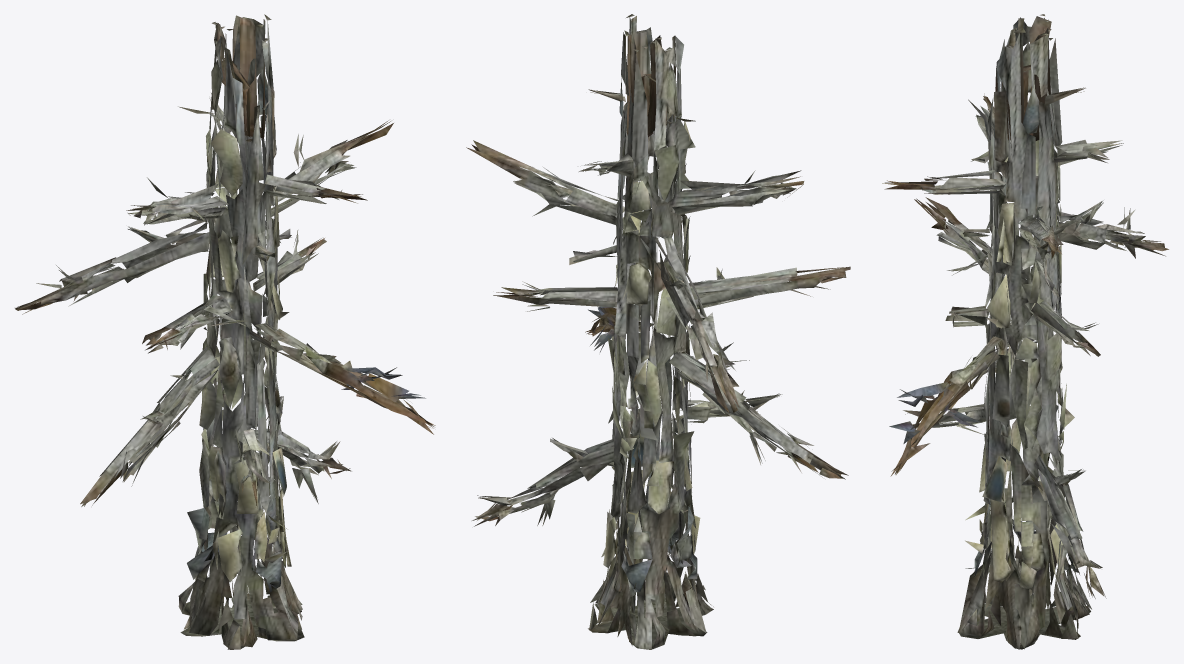
Rendered from tr_snag_far.glb.
3 views of the same model, side by side, from view 1: azimuth 30°, elevation 25°; view 2: azimuth 150°, elevation 25°; view 3: azimuth 270°, elevation 25° (orthographic).
Visible parts, largest first — view 1: tr_snag; view 2: tr_snag; view 3: tr_snag.
Boxes of the visible parts, x1,y1,x2,y2 form: tr_snag: [15, 14, 435, 649]; tr_snag: [466, 14, 850, 649]; tr_snag: [882, 14, 1168, 649].
Size of the model in its own units: 6.09 by 10.11 by 4.38.
1 material, 1 textured.
